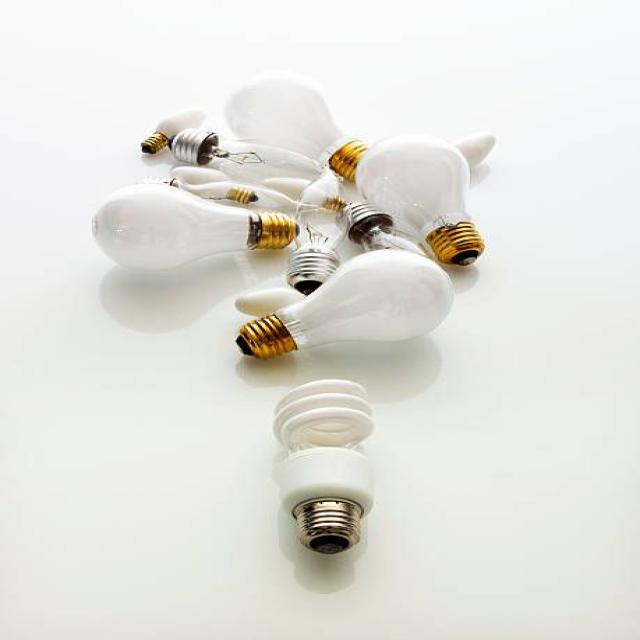electronic: (90, 70, 497, 360), (233, 246, 454, 360), (318, 130, 495, 266), (89, 179, 300, 272), (269, 378, 377, 556)
